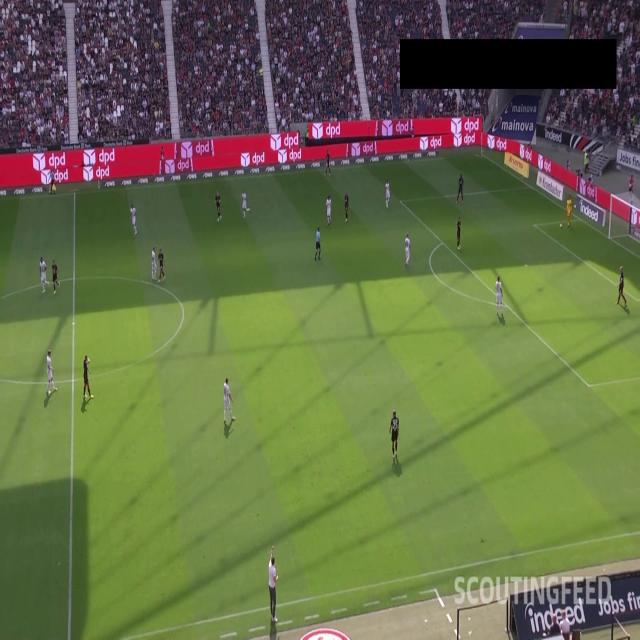ball: (559, 217, 563, 232)
player: (82, 354, 96, 399), (223, 376, 235, 424), (45, 350, 58, 393), (49, 256, 61, 291), (129, 203, 140, 238), (391, 410, 399, 458), (495, 276, 505, 314), (618, 260, 626, 307), (38, 258, 48, 292), (455, 215, 465, 249), (157, 249, 167, 282), (240, 190, 251, 219), (150, 242, 157, 282), (566, 192, 573, 226), (215, 190, 222, 224), (405, 231, 412, 265), (325, 192, 333, 221), (457, 172, 465, 201), (324, 146, 331, 177), (343, 190, 349, 220), (385, 180, 390, 208)
